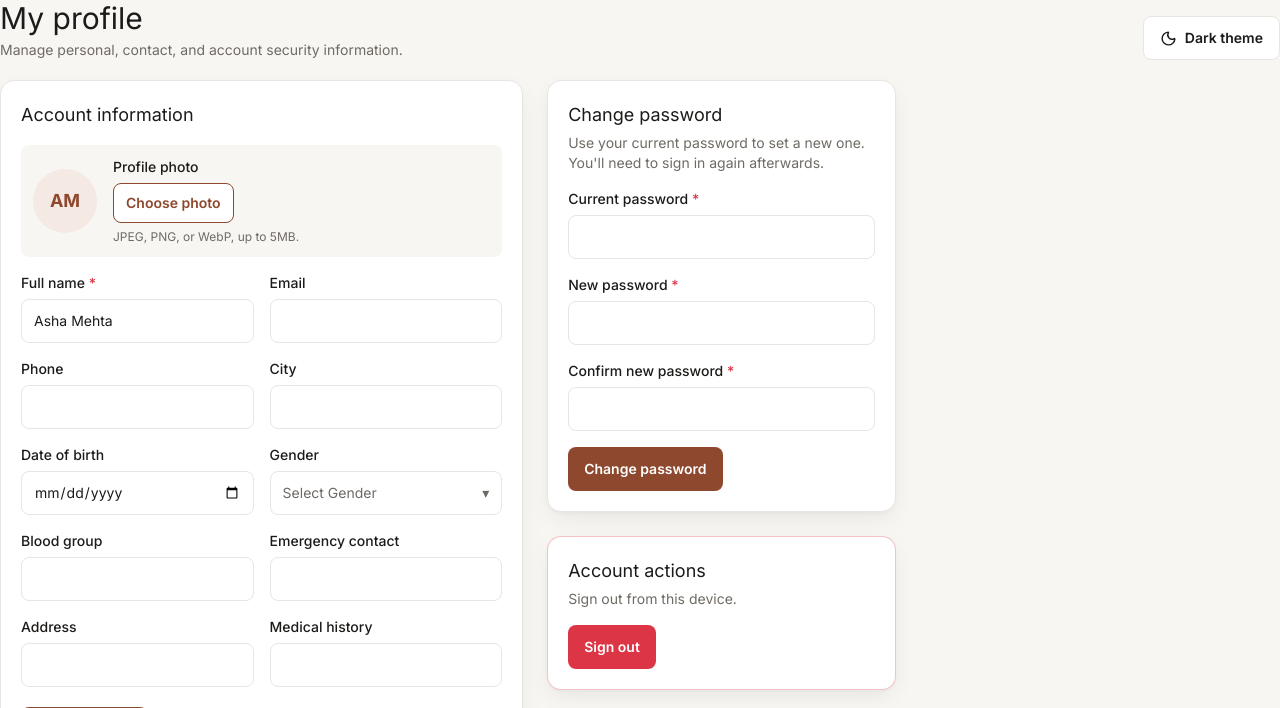
Test: PortalProfile › moves the theme preference into My profile
The width and height of the screenshot is (1280, 708).
Click the button with aria-label "Switch to dark theme" at (1211, 38), box 1143,16 -> 1279,60
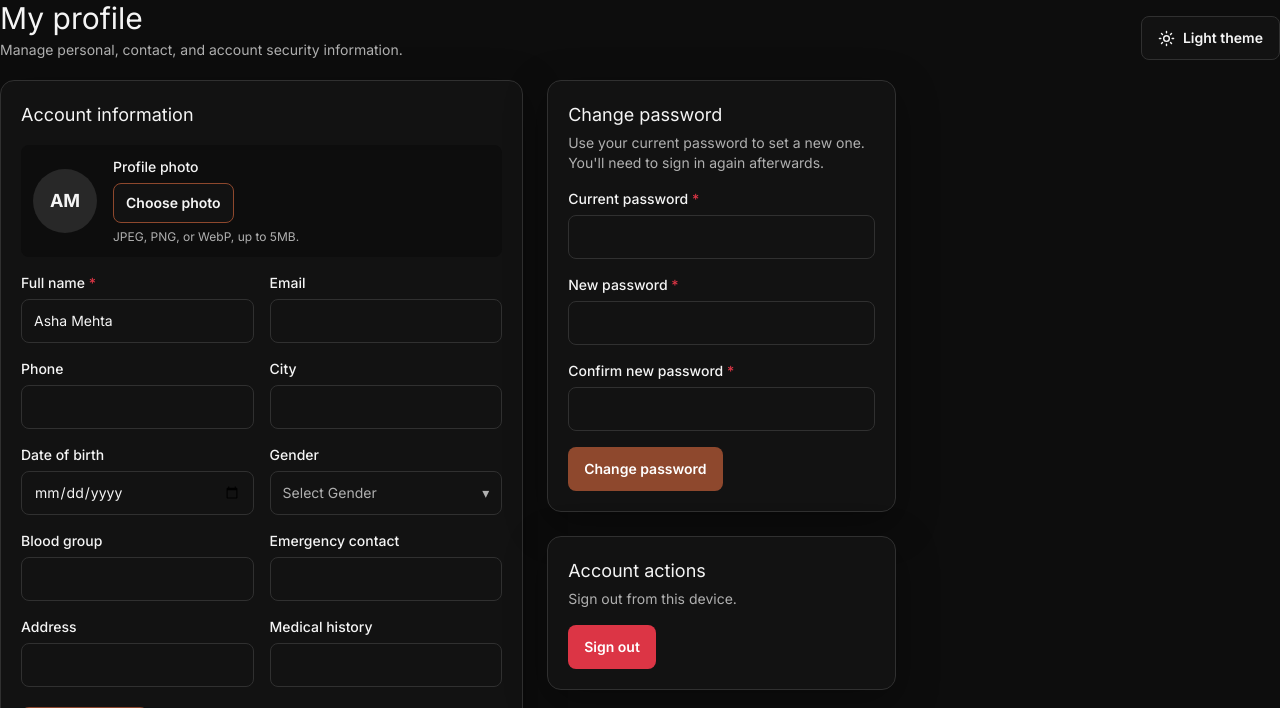
Now the button with aria-label "Switch to light theme" is shown, box 1141,16 -> 1279,60
